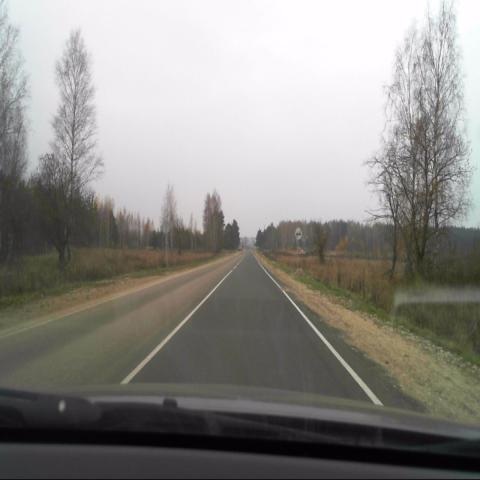3_21: (294, 227, 302, 242)
